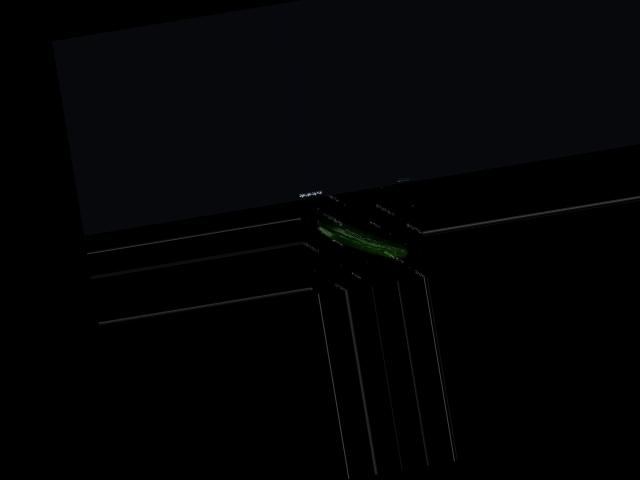cucumber: (315, 203, 410, 271)
